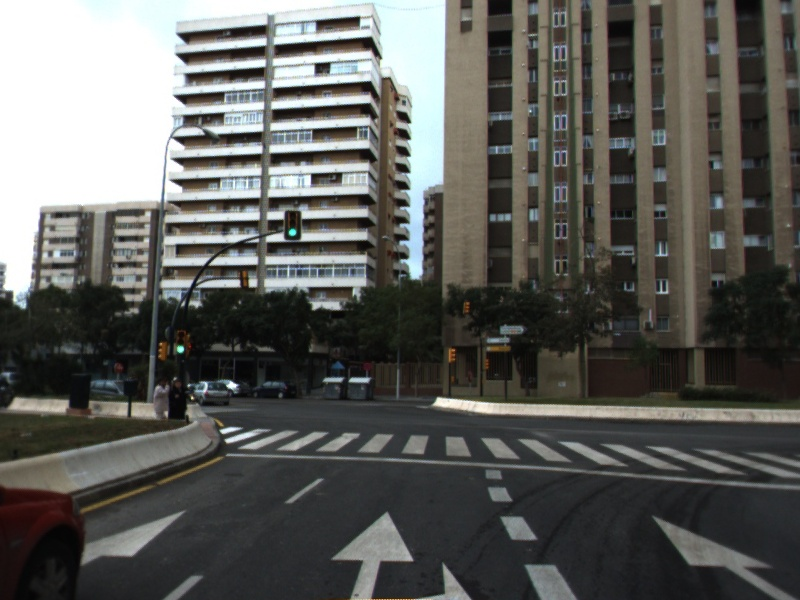STRAIGHT: (648, 510, 798, 600), (327, 507, 415, 600), (76, 504, 193, 572)
